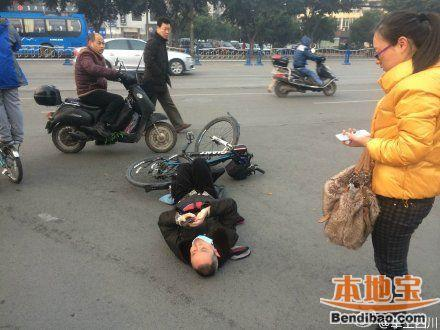bending: (72, 29, 133, 148), (289, 33, 327, 89)
down: (157, 154, 243, 280)
up: (338, 9, 440, 330), (138, 15, 195, 138), (1, 12, 31, 157)
